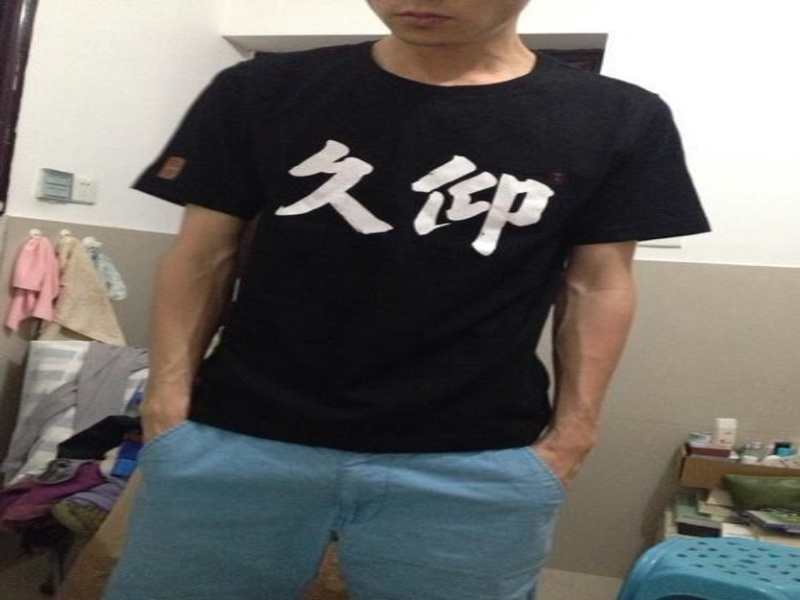short_sleeved_shirt: (126, 38, 713, 456)
shorts: (96, 386, 564, 599)
